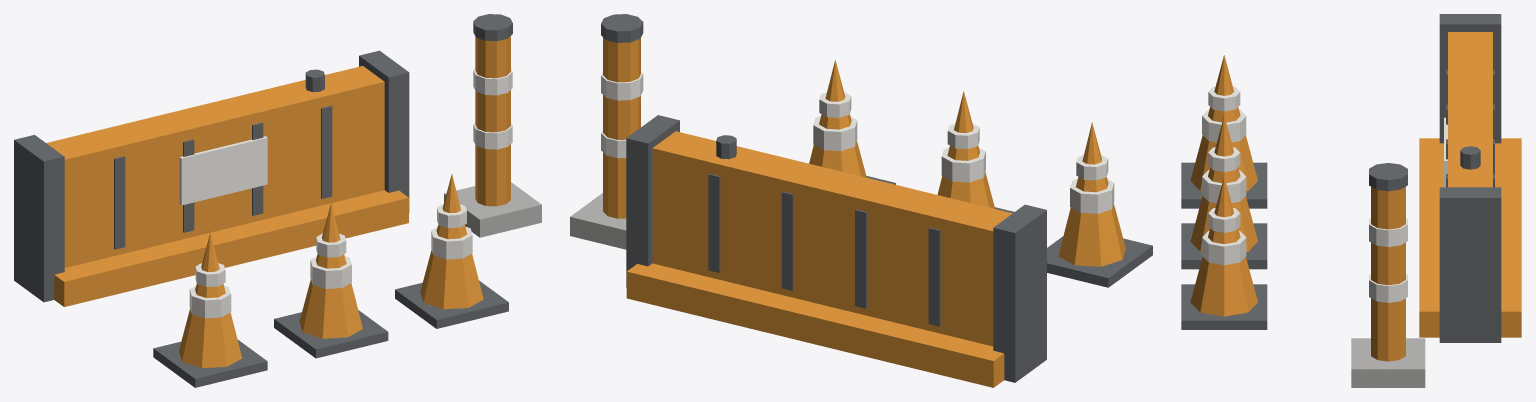
Rendered from demolition-and-site-clearance-demolition-and-site-clea-8d85b72f__35706.glb.
3 renders of one model, left to right at view 1: azimuth 30°, elevation 25°; view 2: azimuth 150°, elevation 25°; view 3: azimuth 270°, elevation 25°, orthographic. The views are drawn at different scales.
Visible parts, largest first — view 1: demolition-and-site-clearance-cone-and-barrier-set; view 2: demolition-and-site-clearance-cone-and-barrier-set; view 3: demolition-and-site-clearance-cone-and-barrier-set.
Part boxes in pixels (x1,y1,x2,y2): demolition-and-site-clearance-cone-and-barrier-set: (14, 14, 541, 387); demolition-and-site-clearance-cone-and-barrier-set: (570, 14, 1152, 387); demolition-and-site-clearance-cone-and-barrier-set: (1181, 14, 1521, 387).
Bounding box in the file's own units: 2.64 × 1.08 × 1.66.
4 materials, 1 textured.
